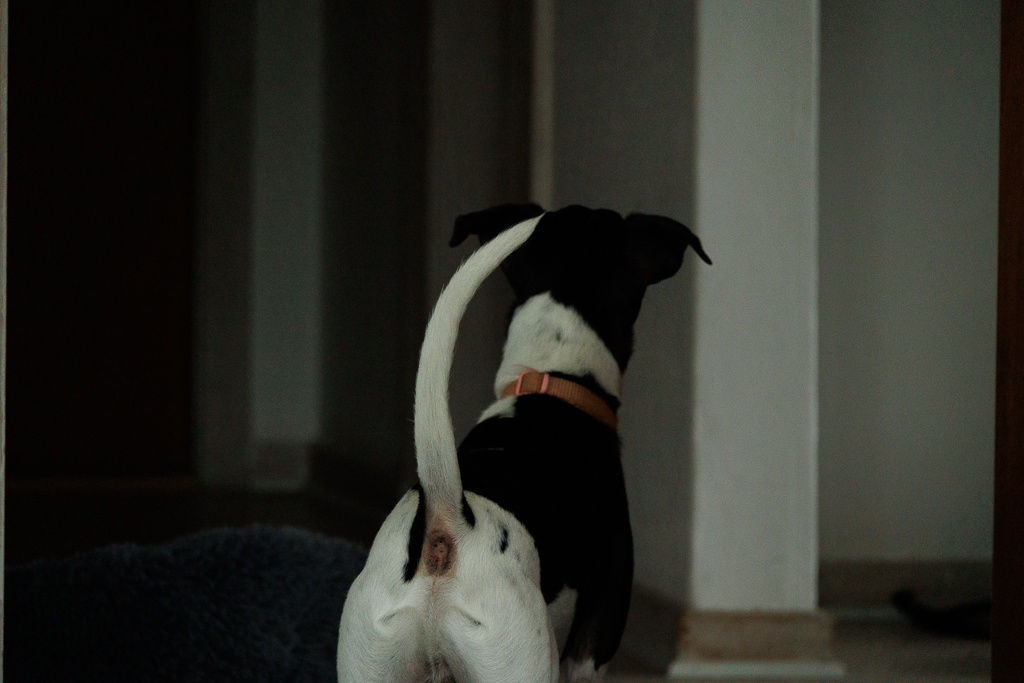Dog: (308, 187, 730, 683)
